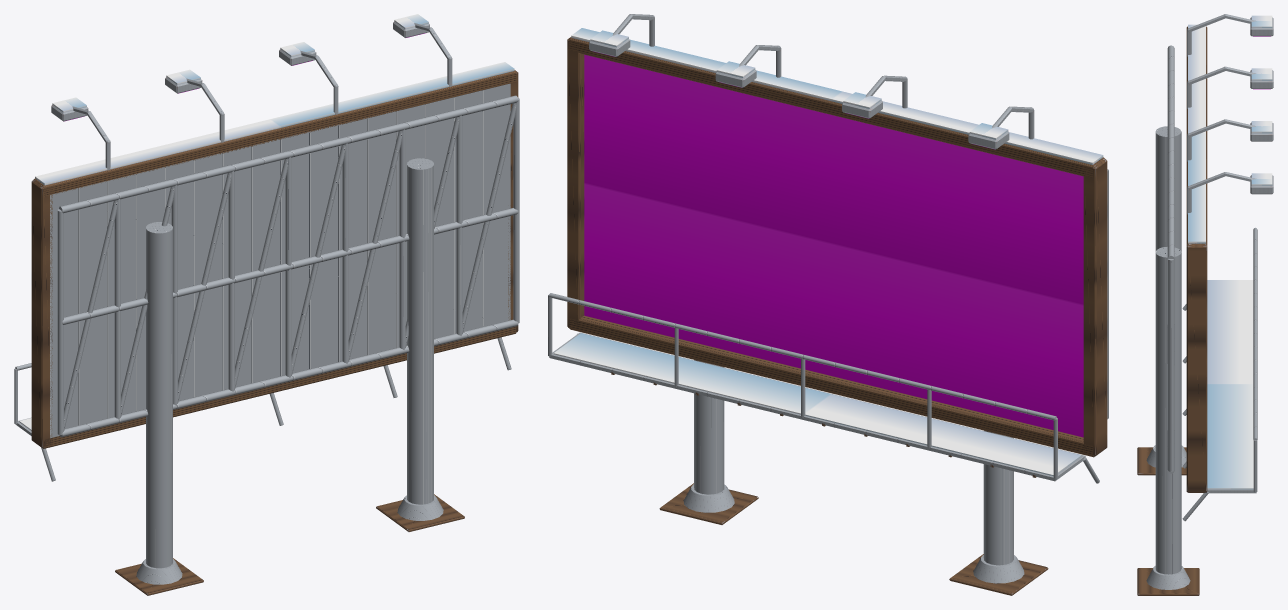
Rendered from ck_billboard_loading.fbx.
3 renders of one model, left to right at view 1: azimuth 30°, elevation 25°; view 2: azimuth 150°, elevation 25°; view 3: azimuth 270°, elevation 25°, orthographic. The views are drawn at different scales.
Parts seen in each view (by area): view 1: ck_billboard_loading; view 2: ck_billboard_loading; view 3: ck_billboard_loading.
Boxes of the visible parts, box(x1,y1,x2,y2) form: ck_billboard_loading: box(14, 14, 519, 595); ck_billboard_loading: box(548, 14, 1108, 595); ck_billboard_loading: box(1137, 14, 1273, 595).
Bounding box in the file's own units: 2010 × 1829 × 525.
